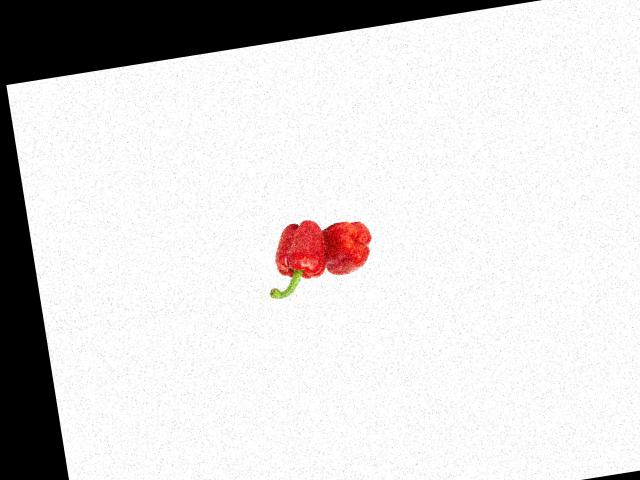bell_pepper: (319, 214, 376, 280)
